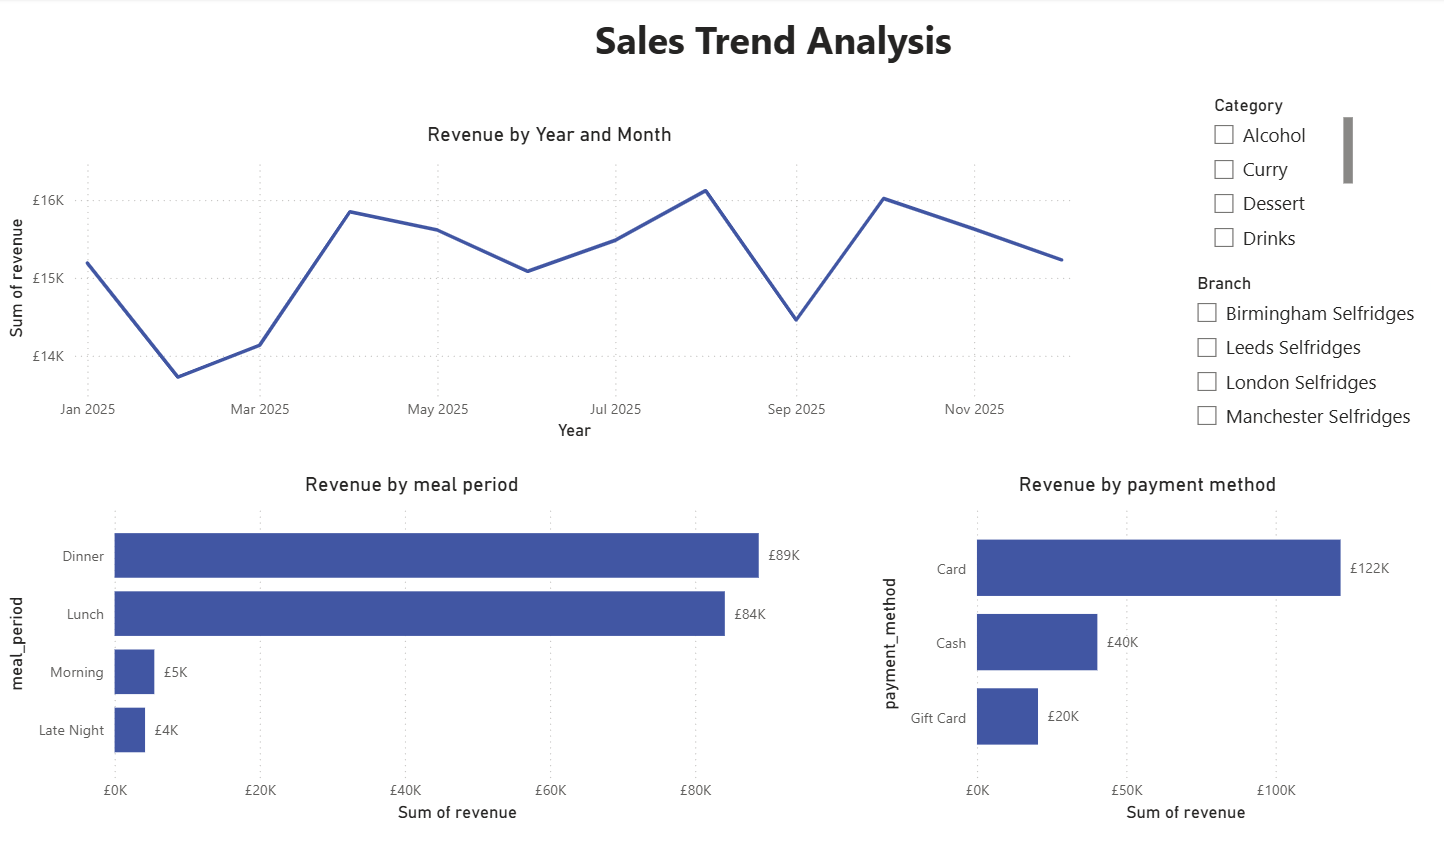

The page's visual inventory and layout, read from the dashboard file:
{"tool":"powerbi","page":{"name":"Trend Analysis","canvas":[1280,720],"ordinal":2},"visuals":[{"type":"lineChart","title":"Revenue by Year and Month","fields":{"Y":["Sum(sales_transactions.revenue)"],"Category":["sales_transactions.order_date.Variation.Date Hierarchy.Year","sales_transactions.order_date.Variation.Date Hierarchy.Month"]},"box":[6,104.4,927.2,273.4],"z":0},{"type":"clusteredBarChart","title":"Revenue by meal period","fields":{"Category":["sales_transactions.meal_period"],"Y":["Sum(sales_transactions.revenue)"]},"box":[6,400.2,694.3,300.2],"z":1000},{"type":"clusteredBarChart","title":"Revenue by payment method","fields":{"Category":["sales_transactions.payment_method"],"Y":["Sum(sales_transactions.revenue)"]},"box":[743.5,400.2,462.3,300.2],"z":2000},{"type":"textbox","box":[477,7.8,364,56.9],"z":3000},{"type":"slicer","fields":{"Values":["sales_transactions.category"]},"box":[1018.7,77.6,135.4,149.2],"z":4000},{"type":"slicer","fields":{"Values":["sales_transactions.branch"]},"box":[1004,228.6,223.4,149.2],"z":5000}]}

Visuals, with their boxes on the page's 1280x720 design canvas (x1, y1, x2, y2). These are canvas units, not pixel positions in the 1444x843 screenshot, which may show the page scaled, cropped or inside an application window:
"Revenue by Year and Month" lineChart: x1=6, y1=104, x2=933, y2=378
"Revenue by meal period" clusteredBarChart: x1=6, y1=400, x2=700, y2=700
"Revenue by payment method" clusteredBarChart: x1=744, y1=400, x2=1206, y2=700
textbox: x1=477, y1=8, x2=841, y2=65
slicer - sales_transactions.category: x1=1019, y1=78, x2=1154, y2=227
slicer - sales_transactions.branch: x1=1004, y1=229, x2=1227, y2=378
